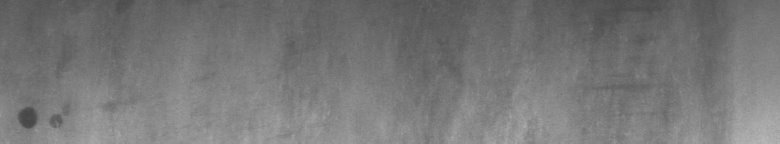fi: (12, 100, 115, 136)
